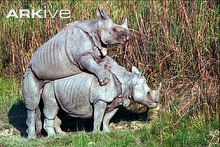rhinoceros: (22, 4, 130, 139), (40, 56, 161, 145)
